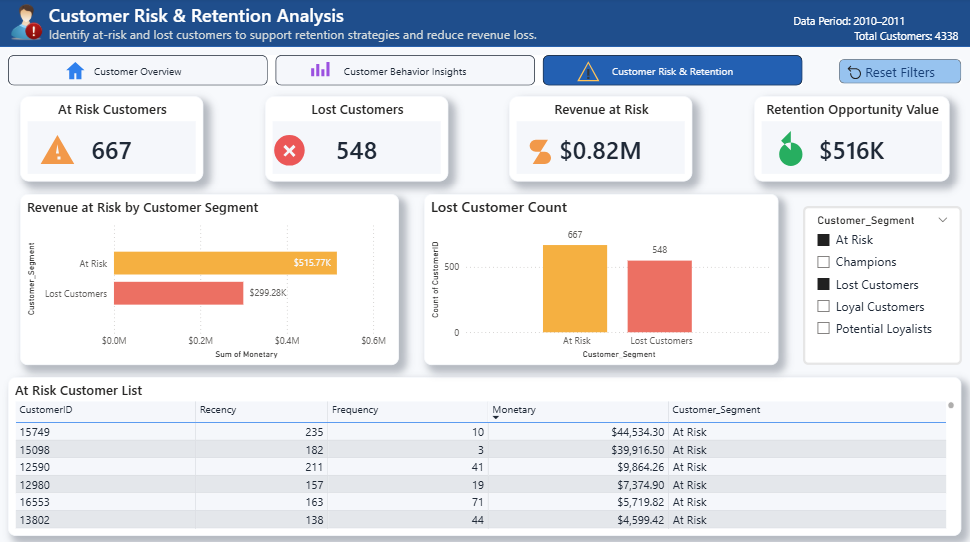

The dashboard page shown, as its layout file describes it:
{"tool":"powerbi","page":{"name":"Customer Risk & Retention","canvas":[1280,720],"ordinal":2},"visuals":[{"type":"shape","box":[0,0,1280,64],"z":0},{"type":"textbox","box":[64,0,672,64],"z":1000},{"type":"textbox","box":[976,16,288,48],"z":2000},{"type":"pageNavigator","box":[16,74,1040,40],"z":3000},{"type":"actionButton","box":[1104,80,160,32],"z":4000},{"type":"cardVisual","title":"At Risk Customers","fields":{"Data":["RFM_Base.At Risk Customers"]},"box":[32,128,240,112],"z":5000},{"type":"cardVisual","title":"Lost Customers","fields":{"Data":["RFM_Base.Lost Customers"]},"box":[352,128,240,112],"z":6000},{"type":"cardVisual","title":"Revenue at Risk","fields":{"Data":["RFM_Base.Revenue At Risk"]},"box":[672,128,240,112],"z":7000},{"type":"cardVisual","title":"Retention Opportunity Value","fields":{"Data":["RFM_Base.Retention Opportunity"]},"box":[992,128,256,112],"z":8000},{"type":"clusteredBarChart","title":"Revenue at Risk by Customer Segment","fields":{"Category":["RFM_Base.Customer_Segment"],"Y":["Sum(RFM_Base.Monetary)"]},"box":[32,256,496,224],"z":9000},{"type":"tableEx","title":"At Risk Customer List","fields":{"Values":["RFM_Base.CustomerID","Sum(RFM_Base.Recency)","Sum(RFM_Base.Frequency)","Sum(RFM_Base.Monetary)","RFM_Base.Customer_Segment"]},"box":[16,496,1248,208],"z":10000},{"type":"clusteredColumnChart","title":"Lost Customer Count","fields":{"Category":["RFM_Base.Customer_Segment"],"Y":["CountNonNull(RFM_Base.CustomerID)"]},"box":[560,256,464,224],"z":11000},{"type":"slicer","fields":{"Values":["RFM_Base.Customer_Segment"]},"box":[1056,272,208,208],"z":12000},{"type":"image","box":[80,80,48,32],"z":13000},{"type":"image","box":[400,80,48,32],"z":14000},{"type":"image","box":[752,80,48,32],"z":15000},{"type":"image","box":[16,8,48,48],"z":15001},{"type":"image","box":[1110,87,27,22],"z":15002},{"type":"image","box":[48,176,64,48],"z":15003},{"type":"image","box":[352,176,64,48],"z":15004},{"type":"image","box":[688,176,48,48],"z":15005},{"type":"image","box":[1008,171,64,61],"z":15006}]}

Visuals, with their boxes in screenshot pixels (x1, y1, x2, y2), scaled from the page's 1280x720 canvas onto the 970x542 screenshot:
shape: (0, 0, 969, 48)
textbox: (48, 0, 558, 48)
textbox: (740, 12, 958, 48)
pageNavigator: (12, 56, 800, 86)
actionButton: (837, 60, 958, 84)
"At Risk Customers" cardVisual: (24, 96, 206, 181)
"Lost Customers" cardVisual: (267, 96, 449, 181)
"Revenue at Risk" cardVisual: (509, 96, 691, 181)
"Retention Opportunity Value" cardVisual: (752, 96, 946, 181)
"Revenue at Risk by Customer Segment" clusteredBarChart: (24, 193, 400, 361)
"At Risk Customer List" tableEx: (12, 373, 958, 530)
"Lost Customer Count" clusteredColumnChart: (424, 193, 776, 361)
slicer - RFM_Base.Customer_Segment: (800, 205, 958, 361)
image: (61, 60, 97, 84)
image: (303, 60, 340, 84)
image: (570, 60, 606, 84)
image: (12, 6, 48, 42)
image: (841, 65, 862, 82)
image: (36, 132, 85, 169)
image: (267, 132, 315, 169)
image: (521, 132, 558, 169)
image: (764, 129, 812, 175)
